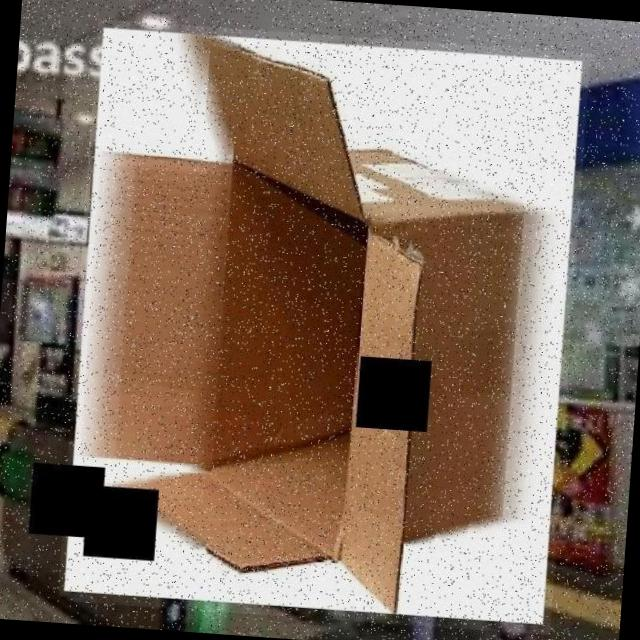box: (57, 18, 590, 634)
